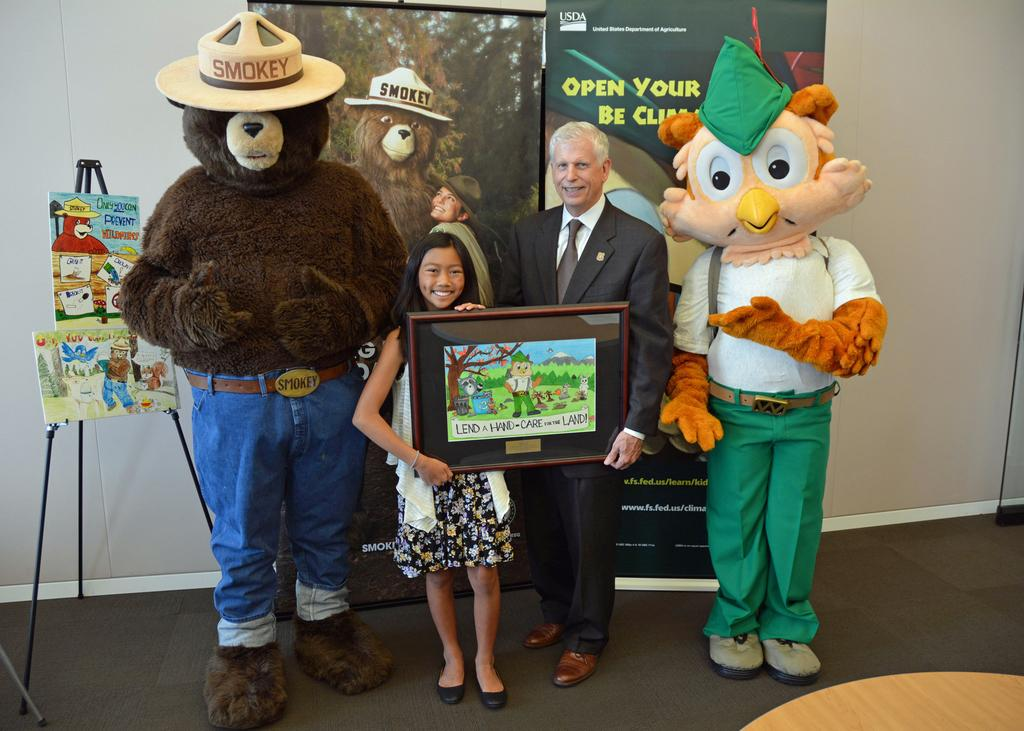Hat: (149, 8, 343, 114), (342, 66, 455, 127)
